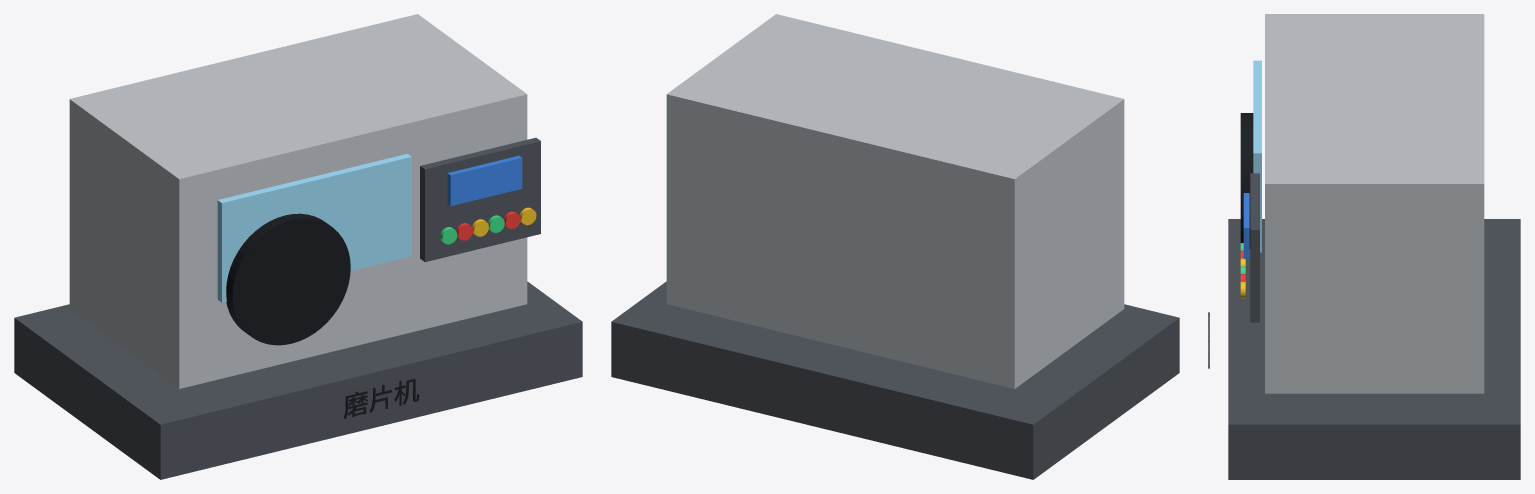
Rendered from asset_grinder.glb.
The picture shows the model from 3 angles, left to right: view 1: azimuth 30°, elevation 25°; view 2: azimuth 150°, elevation 25°; view 3: azimuth 270°, elevation 25°; orthographic projection.
Visible parts, largest first — view 1: enclosure, machine_base, front_window, cutting_disc, cut_panel, cut_screen, asset_label; view 2: enclosure, machine_base; view 3: enclosure, machine_base, cut_panel, cutting_disc, front_window, cut_screen.
Part boxes in pixels (box(x1,y1,x2,y2)): enclosure: box(69, 14, 527, 388); machine_base: box(14, 281, 582, 479); front_window: box(217, 154, 411, 302); cutting_disc: box(226, 213, 350, 345); cut_panel: box(420, 137, 540, 261); cut_screen: box(447, 155, 522, 206); asset_label: box(344, 378, 419, 418); enclosure: box(666, 14, 1124, 388); machine_base: box(611, 281, 1179, 479); enclosure: box(1265, 14, 1484, 393); machine_base: box(1228, 219, 1520, 479); cut_panel: box(1250, 173, 1259, 322); cutting_disc: box(1240, 113, 1253, 248); front_window: box(1253, 60, 1261, 252); cut_screen: box(1243, 193, 1249, 258).
Size of the model in its own units: 2 by 1.26 by 1.28.
